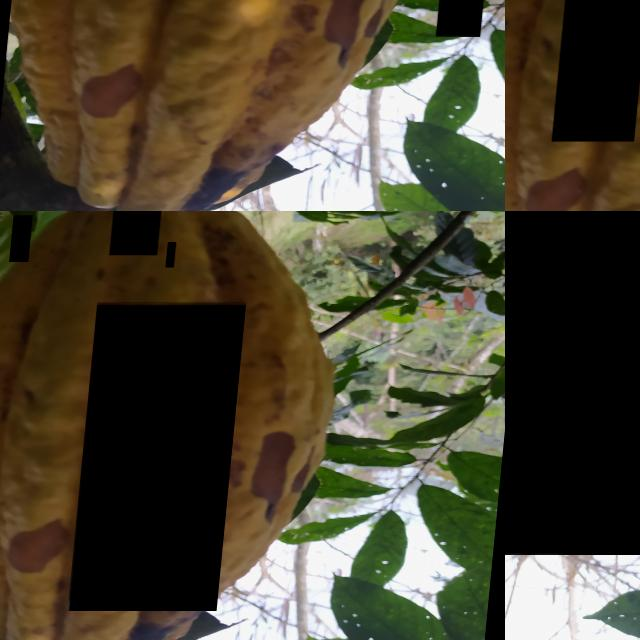Fitoftora: (76, 302, 249, 610)
Sana: (505, 211, 640, 554), (334, 354, 416, 546), (558, 0, 640, 141), (197, 282, 259, 419), (0, 0, 24, 194), (84, 560, 134, 626), (111, 211, 164, 255), (442, 0, 493, 36), (399, 530, 422, 576), (11, 216, 33, 262), (462, 522, 481, 554), (25, 338, 45, 366), (473, 619, 495, 640), (218, 252, 240, 272), (0, 357, 14, 381), (167, 242, 177, 268)
